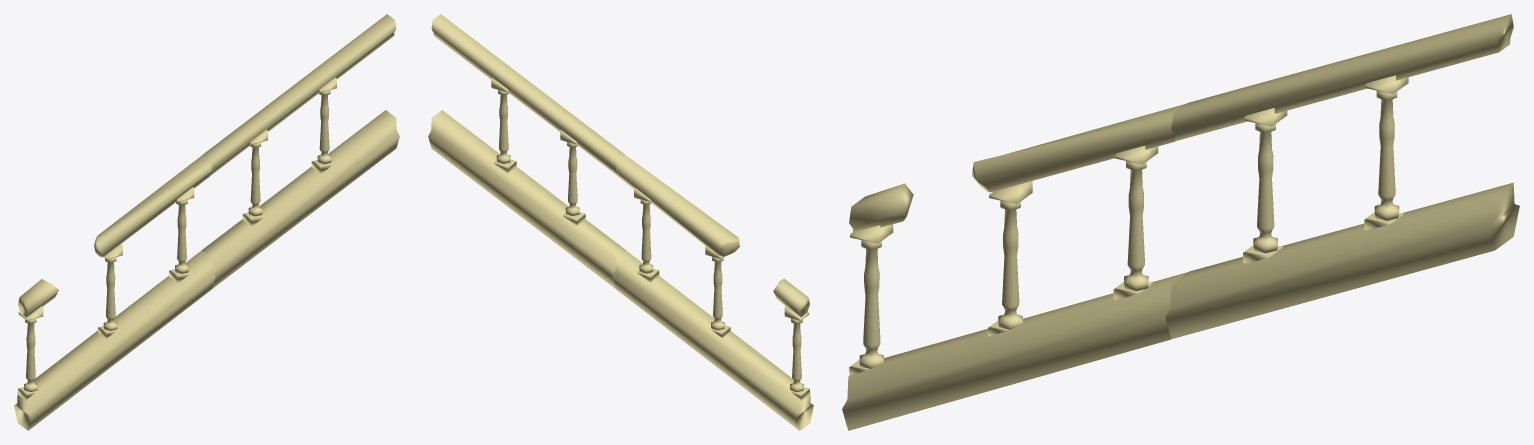
Rendered from Stairs_Wood_01E_Lod0.fbx.
3 renders of one model, left to right at view 1: azimuth 30°, elevation 25°; view 2: azimuth 150°, elevation 25°; view 3: azimuth 330°, elevation 25°, orthographic. The views are drawn at different scales.
Parts seen in each view (by area): view 1: Stairs_Wood_01E_Lod0; view 2: Stairs_Wood_01E_Lod0; view 3: Stairs_Wood_01E_Lod0.
Boxes of the visible parts, bbox=[...] form: Stairs_Wood_01E_Lod0: bbox=[14, 14, 399, 430]; Stairs_Wood_01E_Lod0: bbox=[428, 14, 813, 430]; Stairs_Wood_01E_Lod0: bbox=[842, 14, 1519, 430].
Bounding box in the file's own units: 301 × 250 × 25.19.
